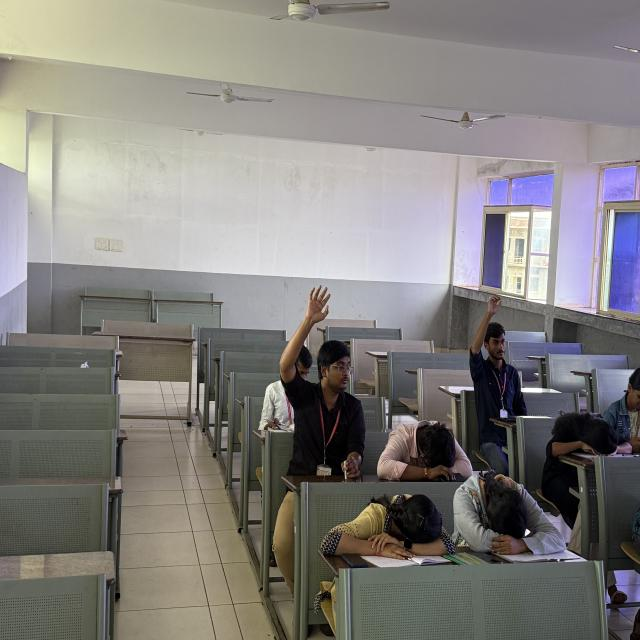Hand Rising: (273, 279, 378, 468), (460, 288, 531, 450)
Sleeping: (316, 480, 462, 613), (443, 466, 581, 576), (538, 409, 637, 508), (371, 412, 492, 492)
